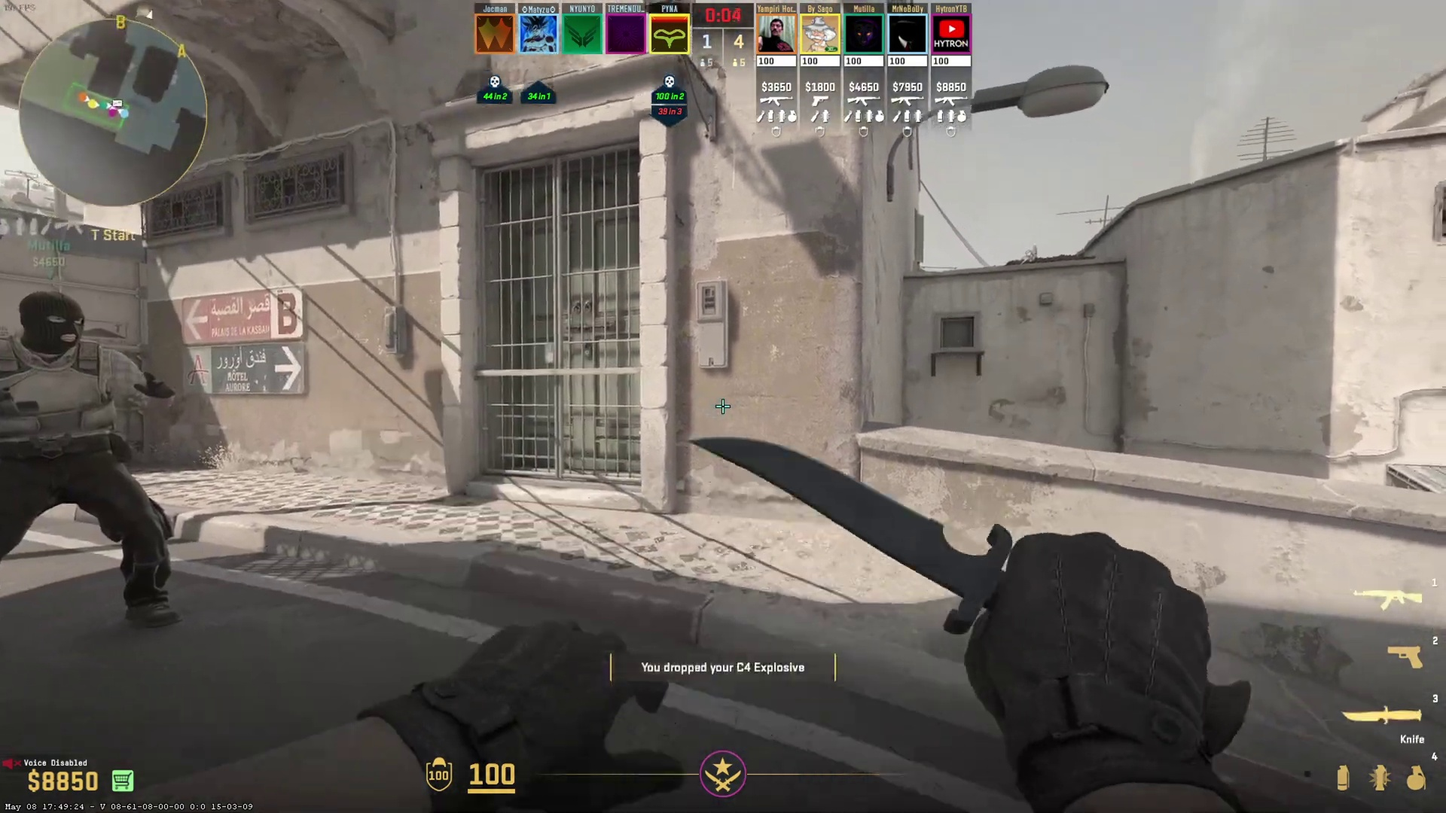Terrorist: (0, 290, 178, 631)
